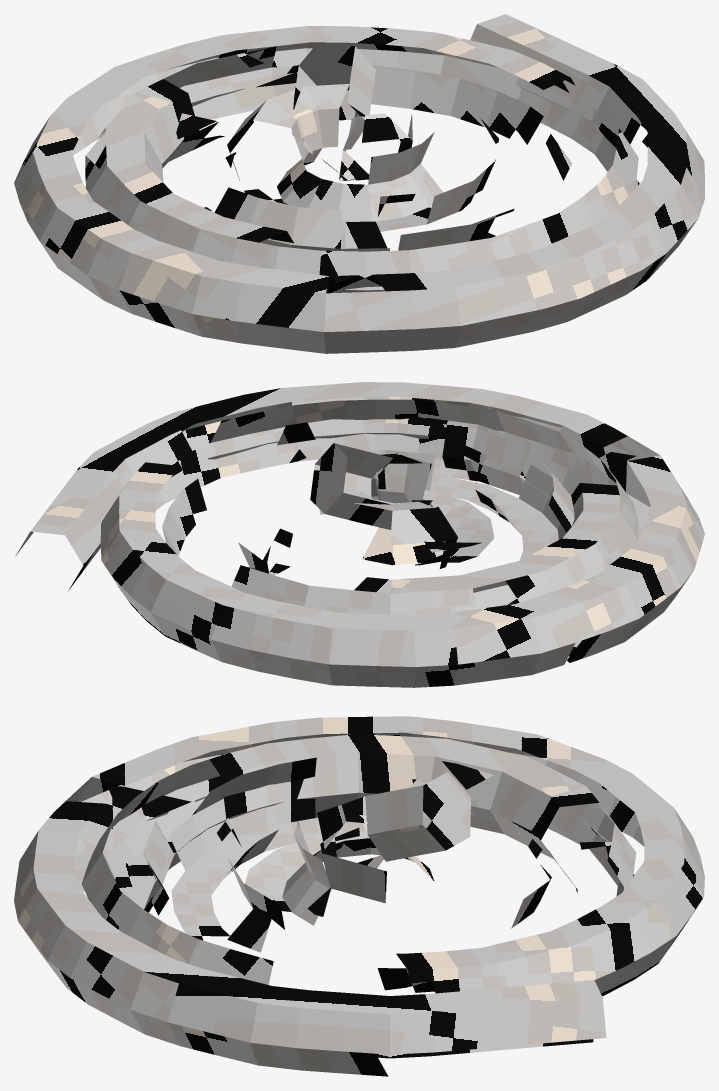
File: wire.fbx
3 renders of one model, top to bottom at view 1: azimuth 30°, elevation 25°; view 2: azimuth 150°, elevation 25°; view 3: azimuth 270°, elevation 25°, orthographic. The views are drawn at different scales.
Visible parts, largest first — view 1: wire; view 2: wire; view 3: wire.
Boxes of the visible parts, x1=… form: wire: x1=14, y1=14, x2=704, y2=353; wire: x1=15, y1=382, x2=704, y2=687; wire: x1=14, y1=716, x2=704, y2=1076.
Bounding box in the file's own units: 48.9 × 11.52 × 46.33.
